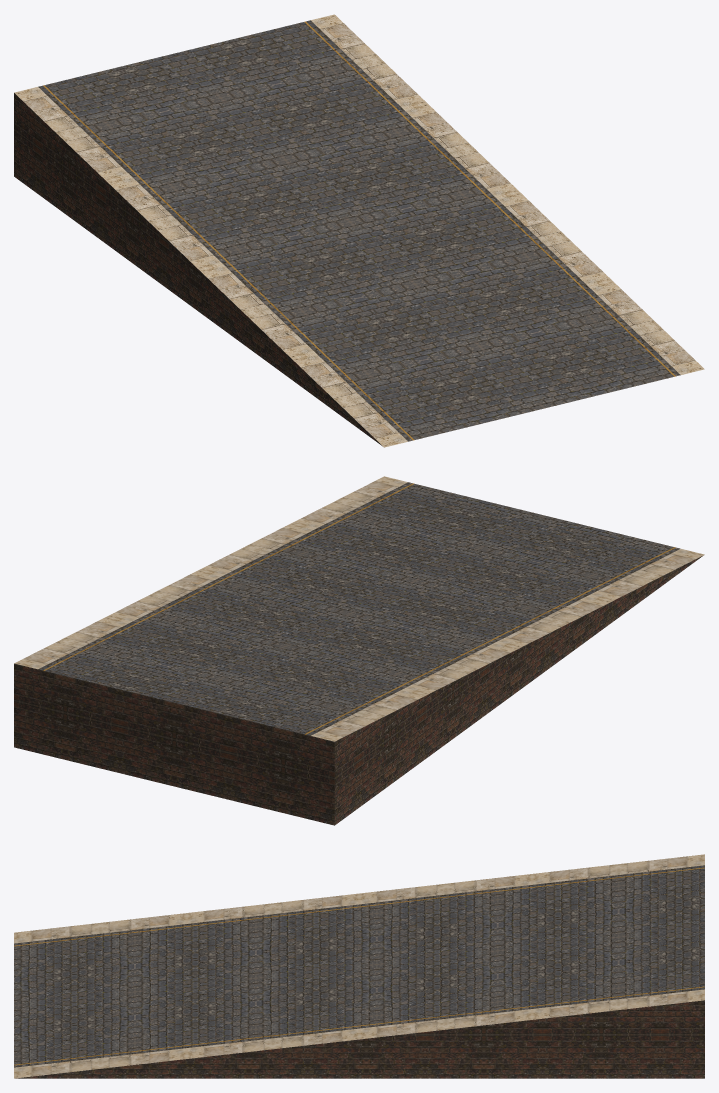
The model's file is platform_ramp.glb.
3 renders of one model, top to bottom at view 1: azimuth 30°, elevation 25°; view 2: azimuth 150°, elevation 25°; view 3: azimuth 270°, elevation 25°, orthographic. The views are drawn at different scales.
Parts seen in each view (by area): view 1: ramp_sloped_deck, ramp_retaining_wall; view 2: ramp_sloped_deck, ramp_retaining_wall; view 3: ramp_sloped_deck, ramp_retaining_wall.
Part boxes in pixels (box(x1,y1,x2,y2)): ramp_sloped_deck: box(14, 14, 704, 447); ramp_retaining_wall: box(14, 93, 382, 446); ramp_sloped_deck: box(14, 476, 704, 741); ramp_retaining_wall: box(14, 555, 703, 825); ramp_sloped_deck: box(14, 854, 704, 1078); ramp_retaining_wall: box(15, 1000, 704, 1078).
Bounding box in the file's own units: 4 × 1 × 8.
Materials: 4 (4 with a texture image).
